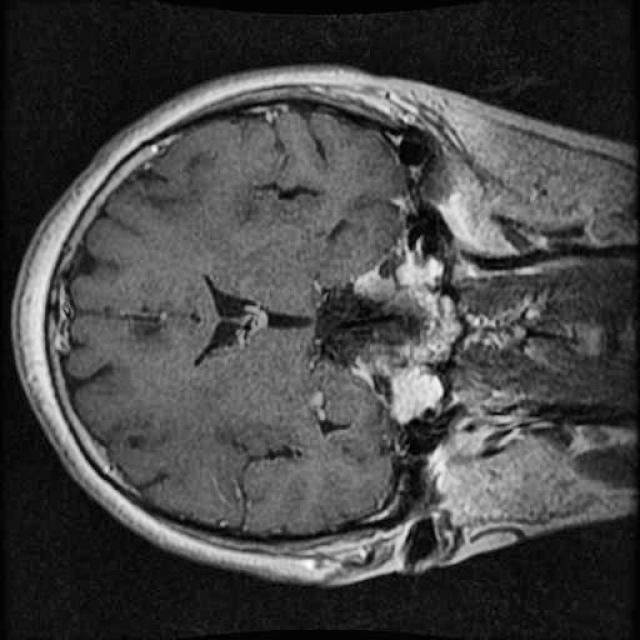Tumor: (314, 284, 386, 371)
